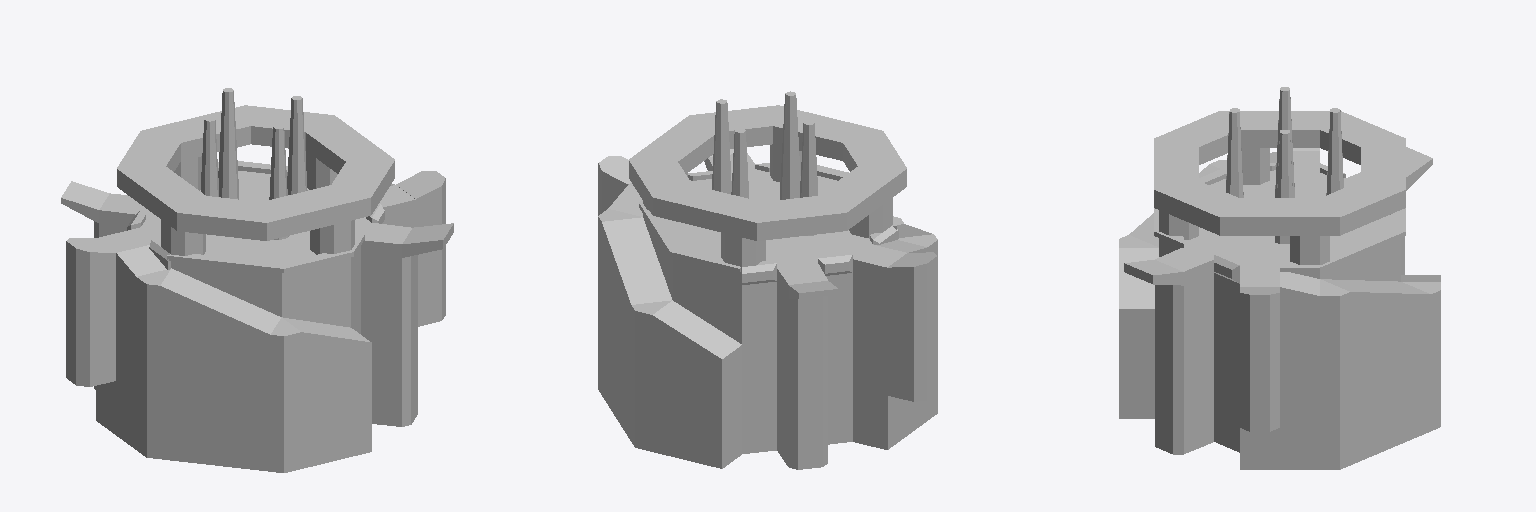
Rendered from central.obj.
3 renders of one model, left to right at view 1: azimuth 30°, elevation 25°; view 2: azimuth 150°, elevation 25°; view 3: azimuth 270°, elevation 25°, orthographic.
Parts seen in each view (by area): view 1: entity0_brush31, entity0_brush32, entity0_brush29, entity0_brush38, entity0_brush0, entity0_brush30, entity0_brush2, entity0_brush9, entity0_brush1, entity0_brush8, entity0_brush5, entity0_brush6 (+19 smaller); view 2: entity0_brush29, entity0_brush28, entity0_brush27, entity0_brush30, entity0_brush39, entity0_brush0, entity0_brush6, entity0_brush7, entity0_brush8, entity0_brush5, entity0_brush2, entity0_brush4 (+18 smaller); view 3: entity0_brush27, entity0_brush29, entity0_brush26, entity0_brush38, entity0_brush32, entity0_brush1, entity0_brush5, entity0_brush3, entity0_brush4, entity0_brush8, entity0_brush28, entity0_brush2 (+16 smaller).
Boxes of the visible parts, box(x1,y1,x2,y2) form: entity0_brush31: box(136, 268, 280, 471); entity0_brush32: box(270, 317, 371, 472); entity0_brush29: box(132, 171, 370, 333); entity0_brush38: box(361, 254, 417, 426); entity0_brush0: box(66, 241, 115, 386); entity0_brush30: box(96, 230, 166, 449); entity0_brush2: box(261, 185, 370, 240); entity0_brush9: box(177, 196, 266, 240); entity0_brush1: box(416, 179, 445, 326); entity0_brush8: box(117, 166, 205, 230); entity0_brush5: box(306, 116, 394, 173); entity0_brush6: box(142, 105, 250, 160); entity0_brush29: box(643, 170, 872, 453); entity0_brush28: box(631, 300, 741, 468); entity0_brush27: box(598, 209, 671, 440); entity0_brush30: box(853, 240, 927, 449); entity0_brush39: box(777, 282, 827, 469); entity0_brush0: box(888, 256, 937, 401); entity0_brush6: box(653, 185, 762, 240); entity0_brush7: box(757, 196, 846, 240); entity0_brush8: box(818, 166, 906, 230); entity0_brush5: box(629, 116, 714, 173); entity0_brush2: box(773, 105, 881, 160); entity0_brush4: box(629, 160, 691, 214); entity0_brush27: box(1320, 279, 1430, 469); entity0_brush29: box(1159, 168, 1400, 452); entity0_brush26: box(1240, 270, 1319, 469); entity0_brush38: box(1155, 273, 1213, 454); entity0_brush32: box(1119, 235, 1158, 418); entity0_brush1: box(1240, 293, 1279, 431); entity0_brush5: box(1220, 198, 1339, 235); entity0_brush3: box(1154, 181, 1238, 235); entity0_brush4: box(1321, 181, 1405, 235); entity0_brush8: box(1220, 111, 1329, 147); entity0_brush28: box(1401, 275, 1440, 430); entity0_brush2: box(1154, 139, 1198, 189).
Size of the model in its own units: 1280 by 1020 by 1024.